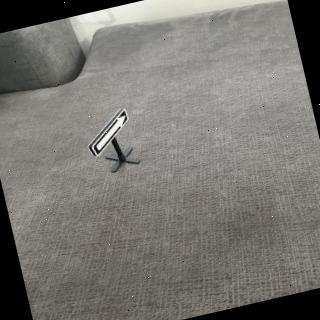sign_oneway_right: (82, 105, 141, 160)
